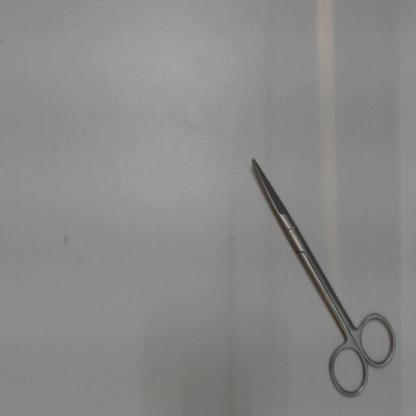Curved Mayo Scissors: (248, 153, 400, 403)
